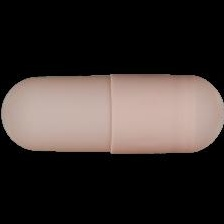55289-277: (0, 0, 224, 224)
